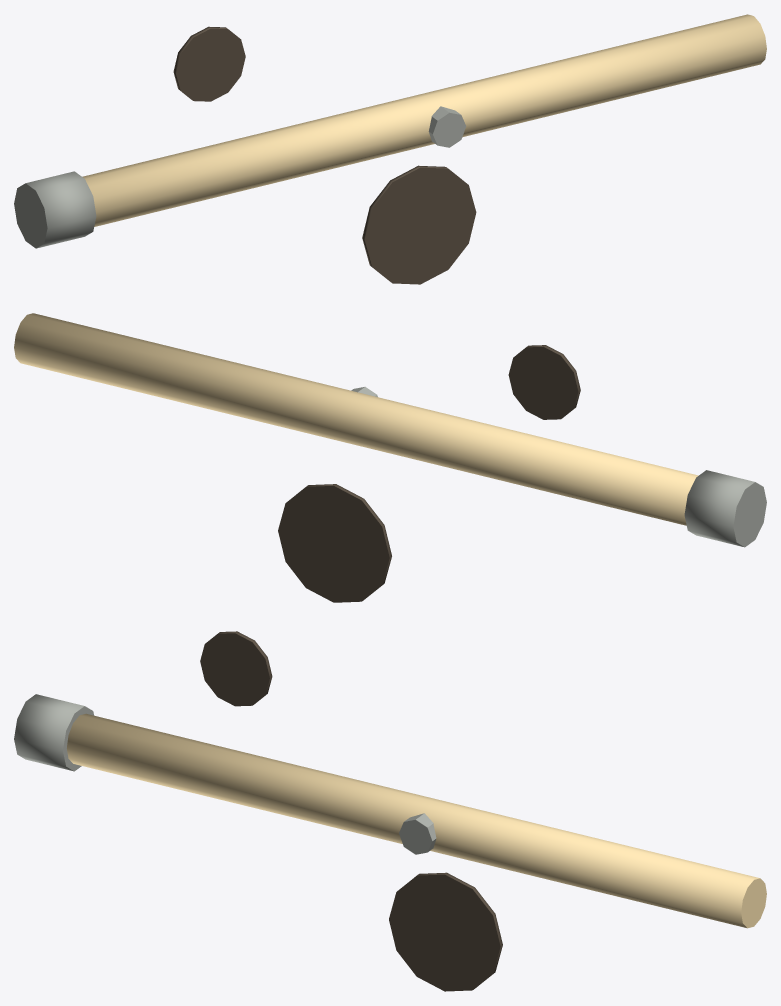
File: drip_m02.obj
3 views of the same model, one above another, from view 1: azimuth 30°, elevation 25°; view 2: azimuth 150°, elevation 25°; view 3: azimuth 330°, elevation 25° (orthographic).
Parts seen in each view (by area): view 1: hose2, wet2_0, end_cap, wet2_1, emitter2; view 2: hose2, wet2_0, end_cap, wet2_1; view 3: hose2, wet2_0, wet2_1, end_cap, emitter2.
Part boxes in pixels (x1=…): hose2: x1=82, y1=14, x2=766, y2=226; wet2_0: x1=362, y1=165, x2=476, y2=284; end_cap: x1=14, y1=171, x2=96, y2=248; wet2_1: x1=173, y1=26, x2=245, y2=101; emitter2: x1=428, y1=106, x2=466, y2=147; hose2: x1=14, y1=313, x2=698, y2=525; wet2_0: x1=278, y1=484, x2=391, y2=602; end_cap: x1=684, y1=470, x2=766, y2=547; wet2_1: x1=508, y1=345, x2=580, y2=419; hose2: x1=67, y1=713, x2=766, y2=928; wet2_0: x1=389, y1=872, x2=502, y2=991; wet2_1: x1=200, y1=631, x2=272, y2=706; end_cap: x1=14, y1=694, x2=93, y2=771; emitter2: x1=399, y1=813, x2=436, y2=854.
Bounding box in the file's own units: 0.5175 × 0.21 × 0.0418.
3 materials, 3 textured.
